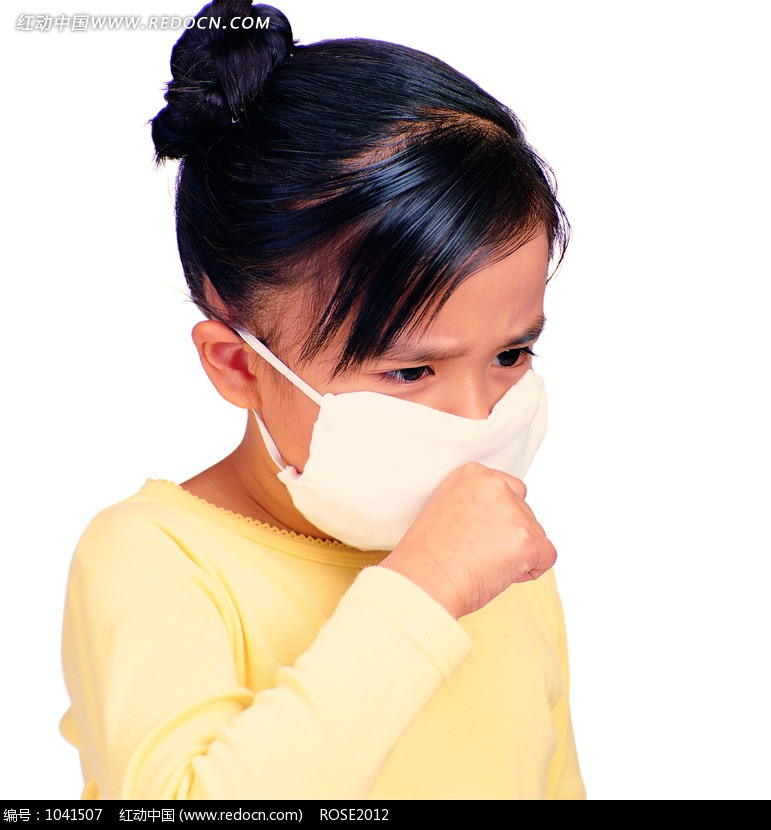mask: (243, 291, 579, 582)
